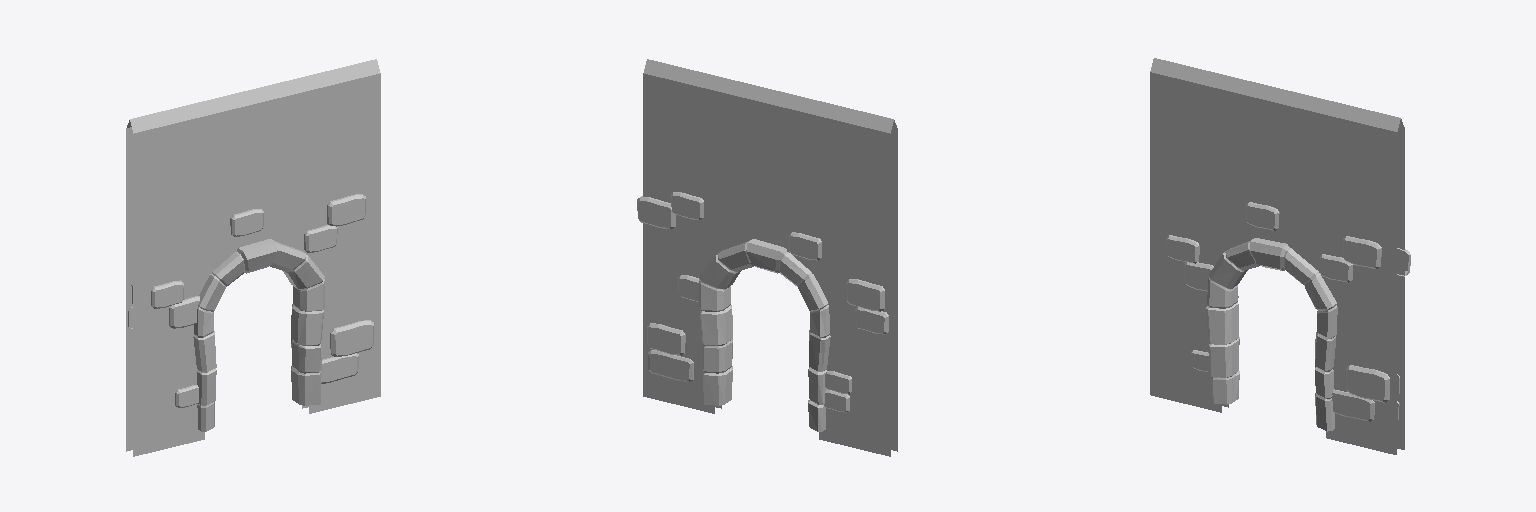
Rendered from Dungeon_Passage.obj.
The picture shows the model from 3 angles: view 1: azimuth 30°, elevation 25°; view 2: azimuth 150°, elevation 25°; view 3: azimuth 330°, elevation 25°; orthographic projection.
Parts seen in each view (by area): view 1: Dungeon_Passage; view 2: Dungeon_Passage; view 3: Dungeon_Passage.
Part boxes in pixels (x1,y1,x2,y2): Dungeon_Passage: (126, 59, 380, 456); Dungeon_Passage: (637, 59, 897, 456); Dungeon_Passage: (1150, 58, 1410, 454).
Size of the model in its own units: 4.08 by 5.18 by 0.6011.